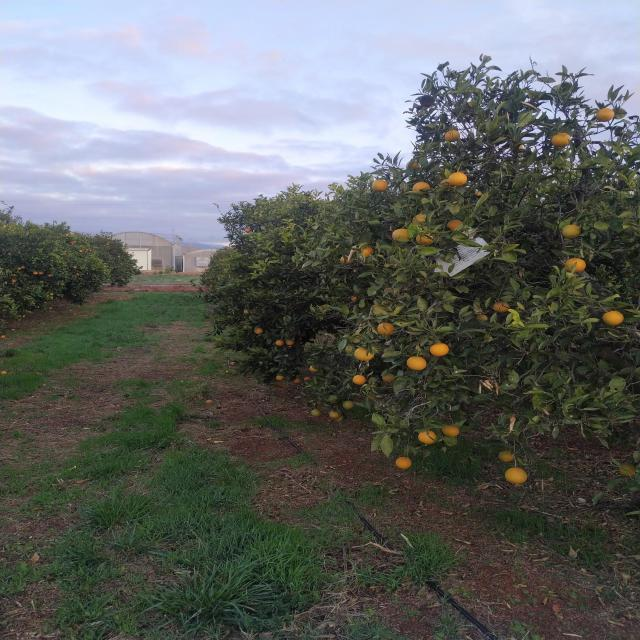Jeruk Belum Matang: (561, 224, 582, 238), (342, 400, 355, 410), (382, 373, 395, 382), (311, 409, 322, 417), (328, 395, 338, 403)
Jeruk Sudah Matang: (505, 468, 528, 484), (550, 132, 572, 148), (602, 310, 624, 326), (406, 356, 428, 372), (564, 258, 587, 272), (430, 342, 450, 358), (418, 430, 437, 445), (448, 172, 468, 186), (376, 322, 395, 336), (354, 348, 374, 361), (440, 424, 460, 437), (392, 227, 410, 241), (596, 108, 614, 121), (416, 232, 434, 245), (412, 182, 431, 194), (446, 218, 462, 232), (396, 456, 412, 469), (372, 180, 388, 192), (356, 247, 373, 258), (444, 130, 459, 142), (492, 302, 510, 312), (498, 451, 514, 461), (412, 214, 427, 224), (352, 375, 366, 385), (339, 254, 352, 264), (309, 365, 319, 372), (330, 411, 340, 418), (275, 339, 284, 346), (254, 328, 263, 334), (286, 340, 294, 346), (276, 376, 284, 380), (294, 378, 300, 383), (304, 376, 310, 381), (245, 228, 251, 232)
